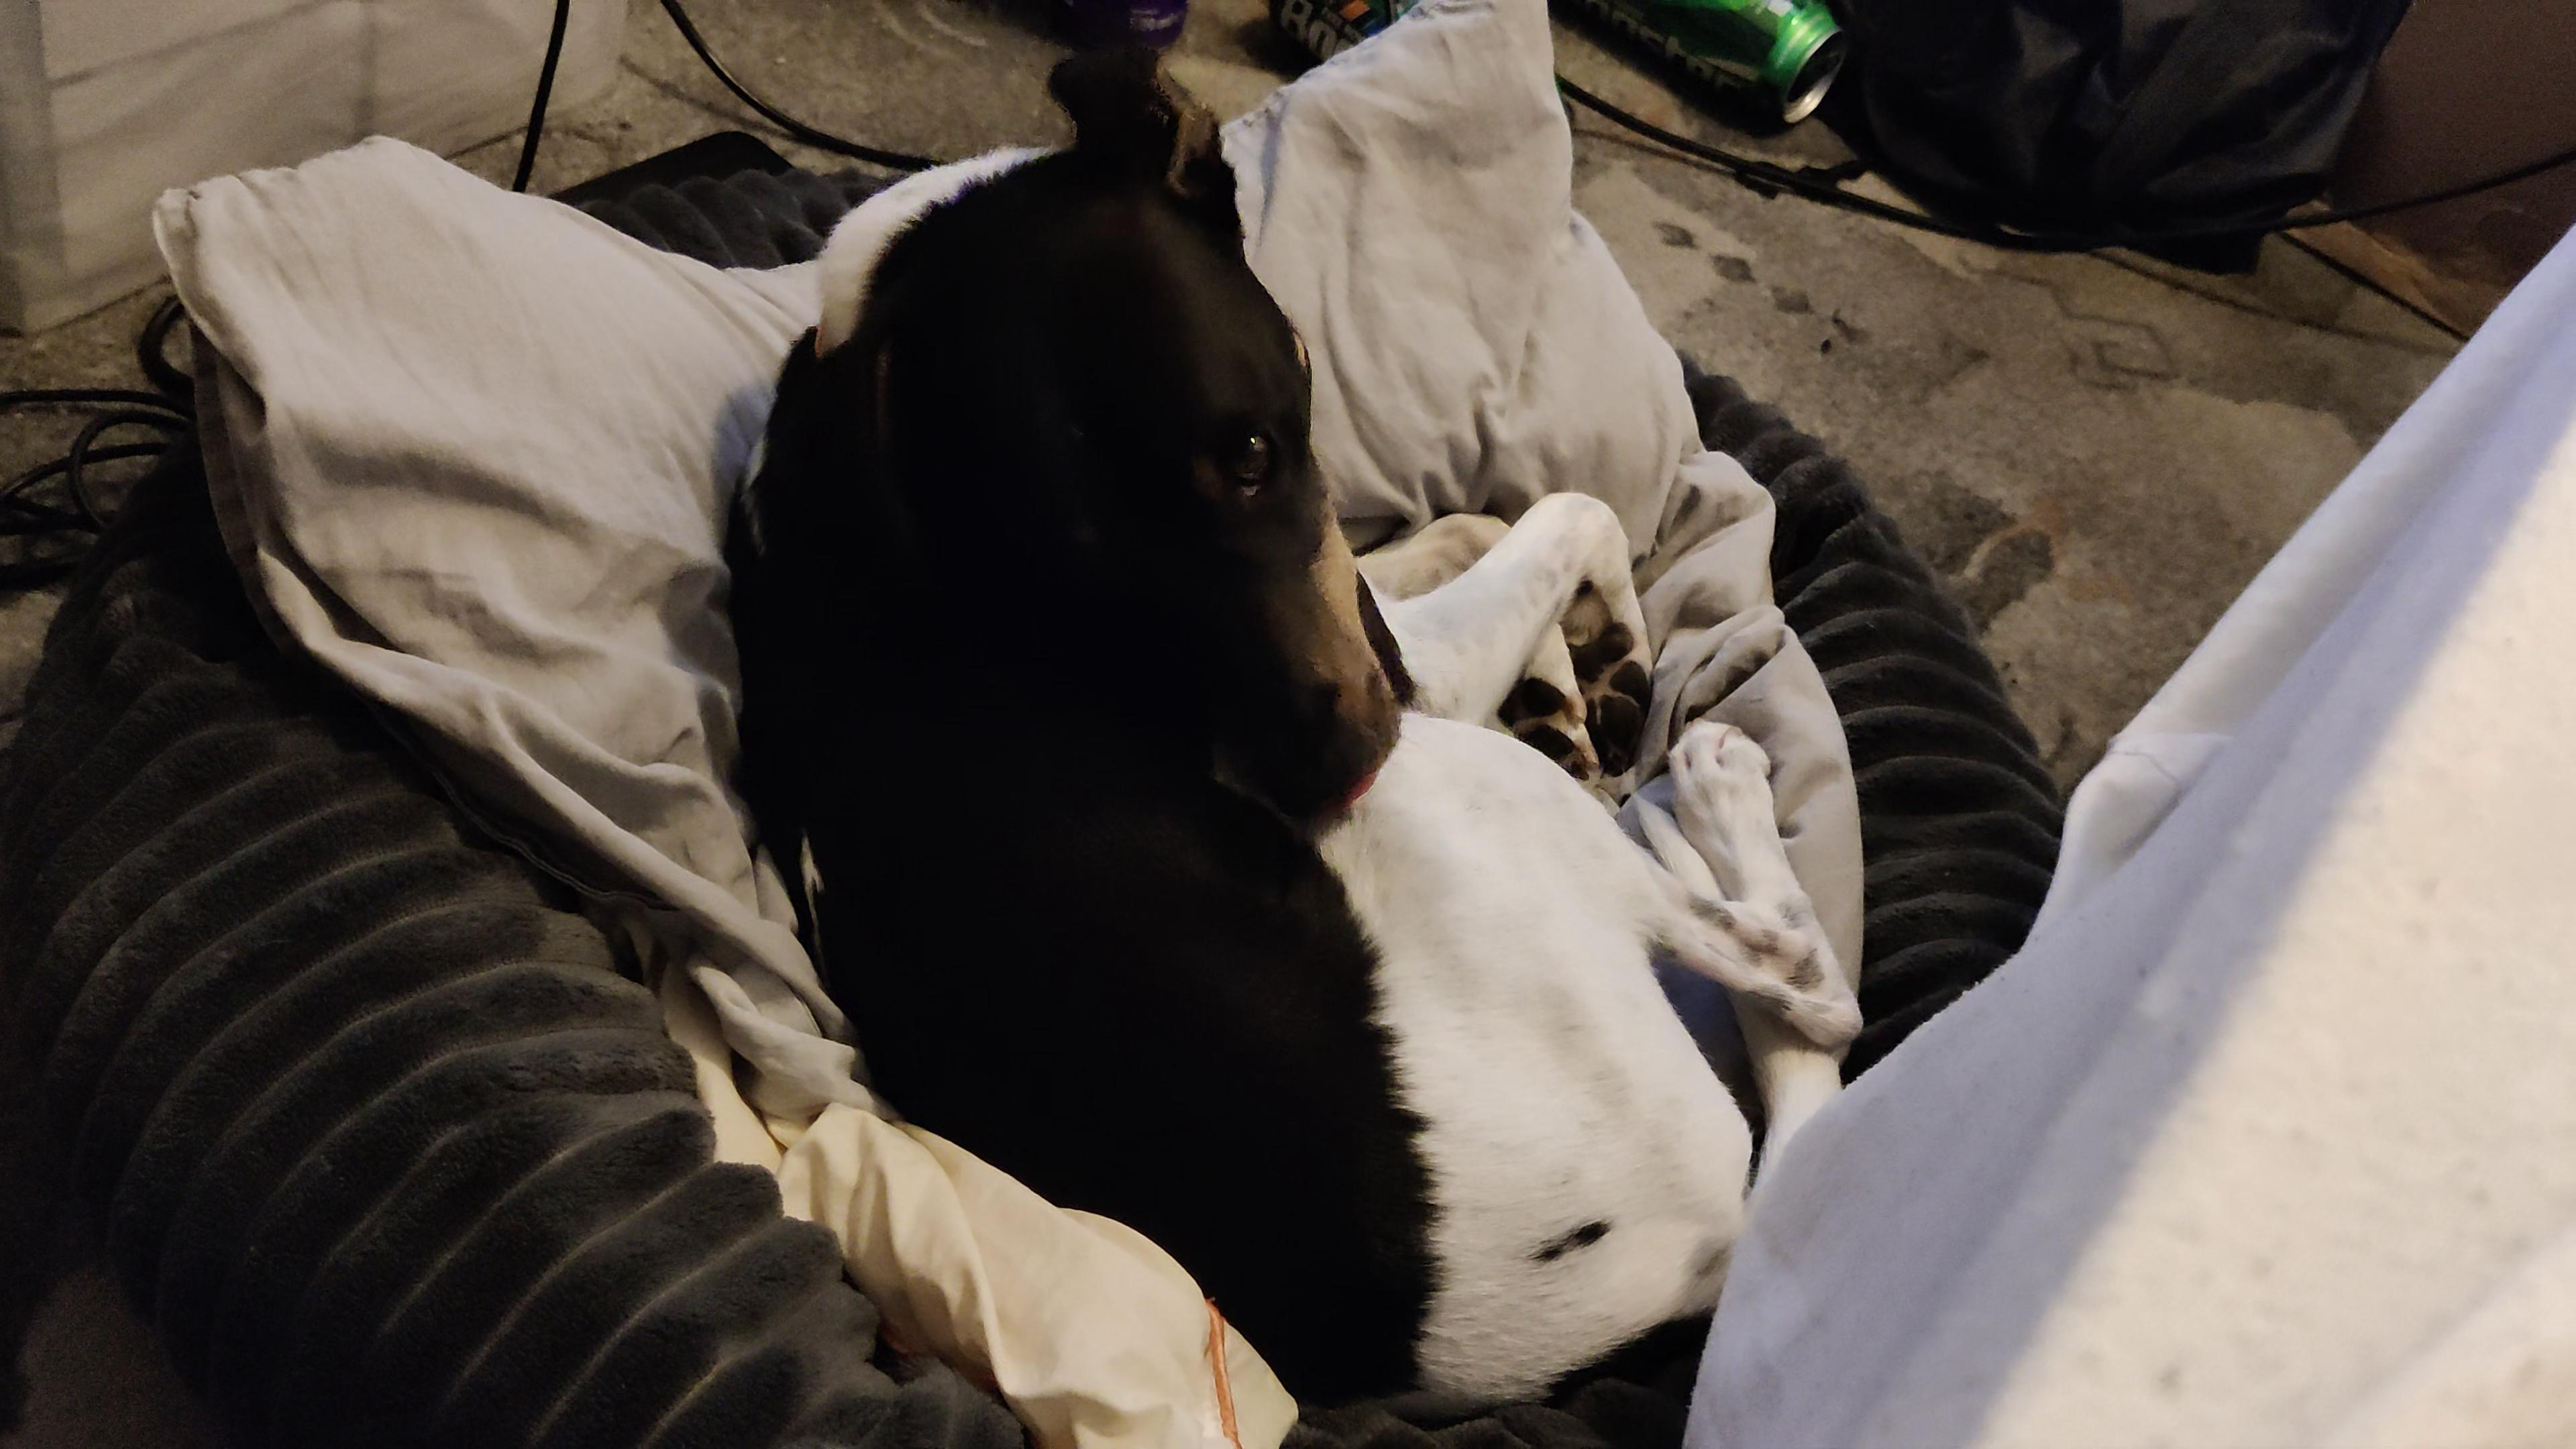Dog: (709, 28, 1902, 1401)
